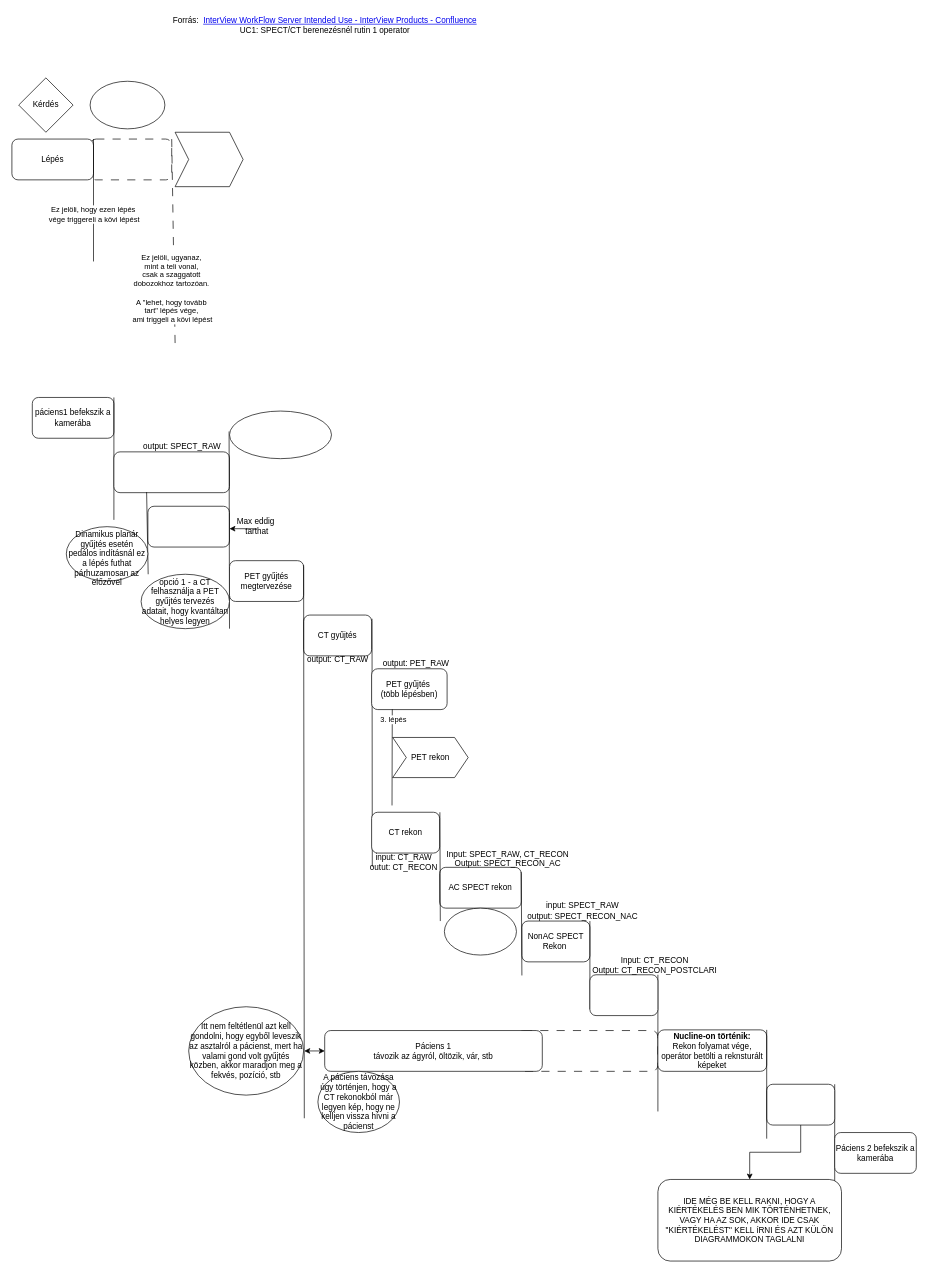
Image size: 928x1273. Some labels were removed from this diagram. The box of each missing label's shape, as (x1, y1, x2, y2) in pixels:
A lépés lehet, hogy tovább tart: (89, 138, 172, 180)
Automatiokusan induló lépés: (174, 132, 243, 187)
Az NM gyűjtés lehet SPECT, Gated vagy dynamic, NM localizer, amit SPECT követ: (229, 410, 332, 459)
Clari postfilter: (589, 974, 658, 1016)
Ehhez MINDIG kell a CT rekon (mindegy, hogy syntetic, vagy igazi): (444, 907, 516, 955)
Info, magyarázat: (89, 81, 165, 129)
operátor elindítja a NM gyűjtést: (113, 451, 230, 493)
operátor előkészíti a páciens2-t (adattok felvétele): (147, 506, 230, 547)
operátor fúzionálja a rekonstruált képet: (766, 1084, 835, 1125)
